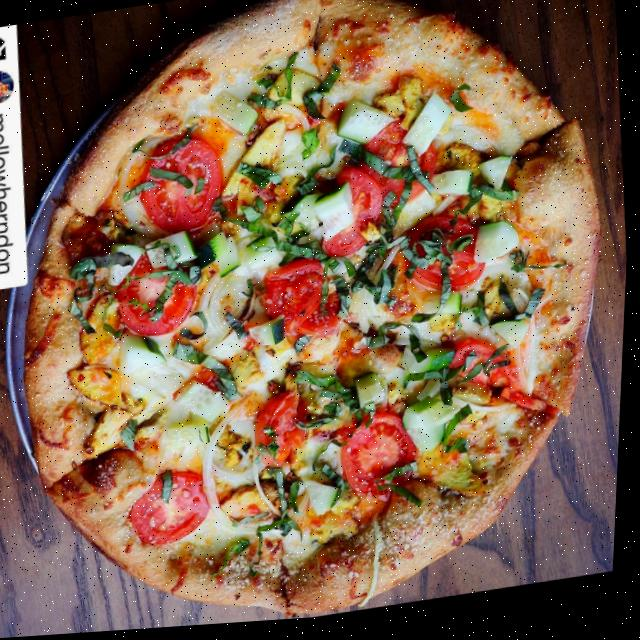basil: (345, 178, 425, 315), (334, 130, 434, 200), (170, 335, 248, 413), (403, 353, 486, 421), (224, 195, 288, 261), (248, 519, 311, 583), (242, 53, 304, 117), (62, 253, 106, 342), (365, 322, 429, 376), (410, 263, 457, 332), (374, 464, 432, 519), (298, 66, 346, 128), (276, 239, 346, 281), (497, 276, 550, 331), (130, 274, 186, 326), (132, 125, 205, 164), (347, 268, 402, 317), (507, 246, 571, 288), (438, 407, 483, 466), (296, 368, 354, 409), (125, 266, 197, 297), (210, 539, 258, 583), (459, 188, 520, 222), (405, 145, 438, 206), (293, 406, 347, 440), (235, 159, 284, 196), (150, 162, 195, 197), (268, 469, 295, 526), (320, 466, 350, 514), (482, 346, 517, 387), (99, 296, 127, 347), (460, 298, 494, 336), (178, 310, 212, 346), (446, 87, 480, 123), (226, 312, 254, 346), (159, 469, 181, 509), (122, 180, 160, 203), (122, 419, 145, 456), (291, 481, 311, 523), (299, 131, 321, 165), (194, 179, 207, 197)
pizza: (0, 0, 640, 640)
tomatoes: (136, 134, 229, 243), (112, 243, 205, 345), (341, 412, 425, 508), (359, 120, 442, 216), (404, 214, 492, 304), (129, 470, 221, 553), (316, 166, 389, 265), (260, 261, 335, 337), (253, 392, 314, 473), (453, 337, 517, 401), (296, 297, 346, 345), (501, 387, 555, 424)
